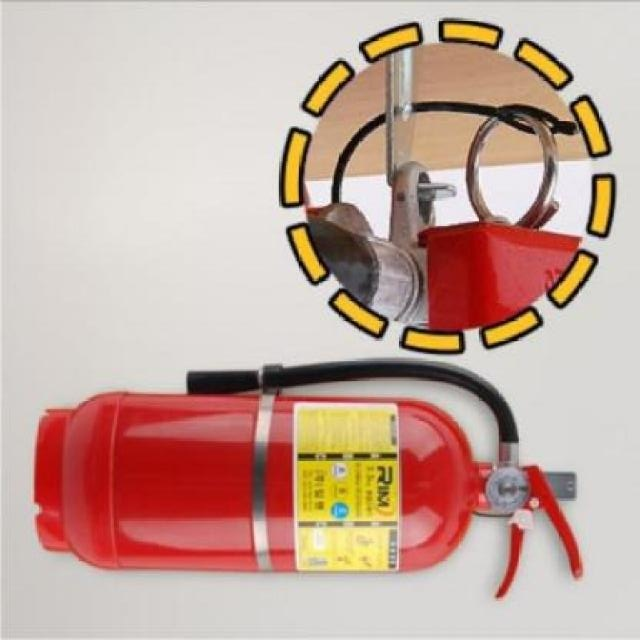fire extinguisher: (32, 355, 586, 600)
